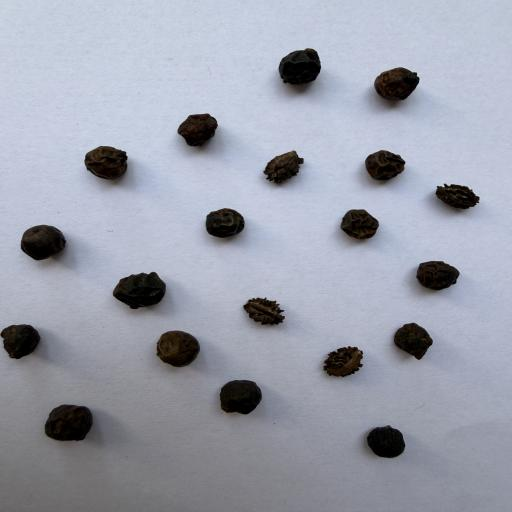Black_pepper: (111, 272, 170, 307), (44, 404, 93, 442), (19, 224, 67, 261), (157, 328, 201, 368), (277, 46, 322, 84), (392, 324, 438, 360), (373, 68, 420, 102), (0, 322, 42, 360), (83, 146, 131, 179), (218, 380, 262, 415), (175, 112, 219, 146), (366, 425, 409, 459), (417, 259, 460, 292), (340, 208, 380, 239), (364, 150, 405, 180), (206, 207, 248, 236)
papaya_seed: (242, 126, 330, 194), (298, 332, 379, 398), (415, 175, 501, 233), (237, 293, 301, 327)
